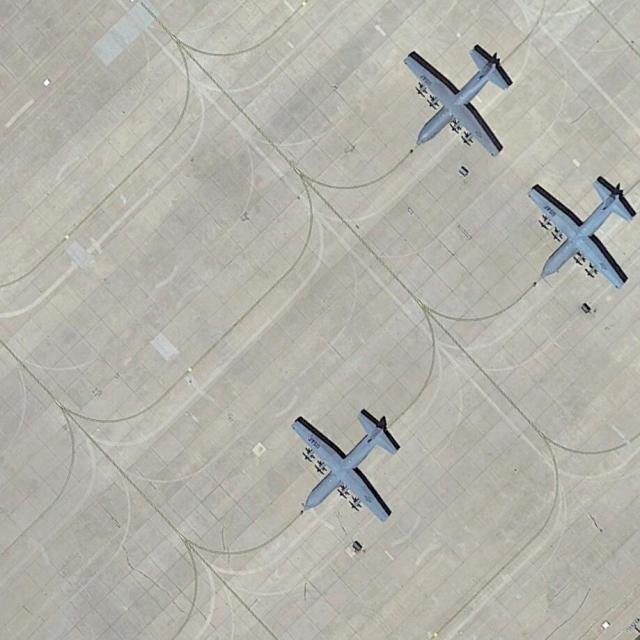fighter jet: (524, 180, 640, 293), (396, 48, 516, 157), (288, 416, 402, 530)
